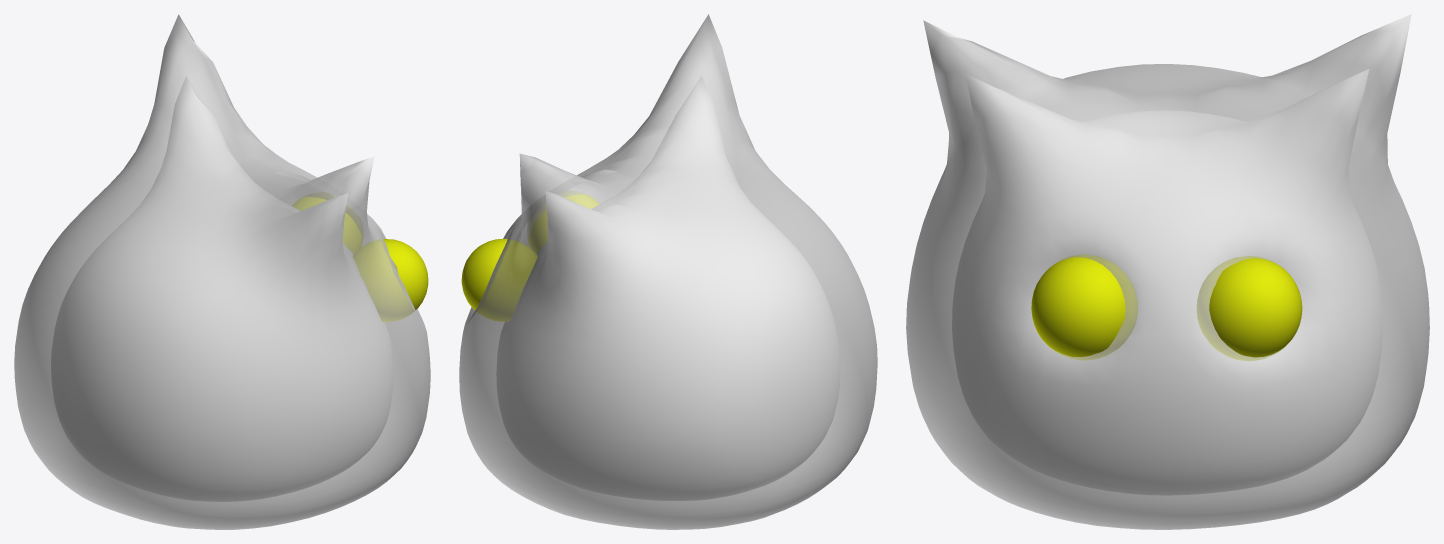
The model's file is Slime1.fbx.
3 renders of one model, left to right at view 1: azimuth 30°, elevation 25°; view 2: azimuth 150°, elevation 25°; view 3: azimuth 270°, elevation 25°, orthographic. The views are drawn at different scales.
Visible parts, largest first — view 1: Cube.005; view 2: Cube.005; view 3: Cube.005.
Boxes of the visible parts, x1,y1,x2,y2 form: Cube.005: [14, 14, 430, 529]; Cube.005: [459, 14, 877, 529]; Cube.005: [906, 14, 1429, 529].
Bounding box in the file's own units: 168 × 166 × 169.
